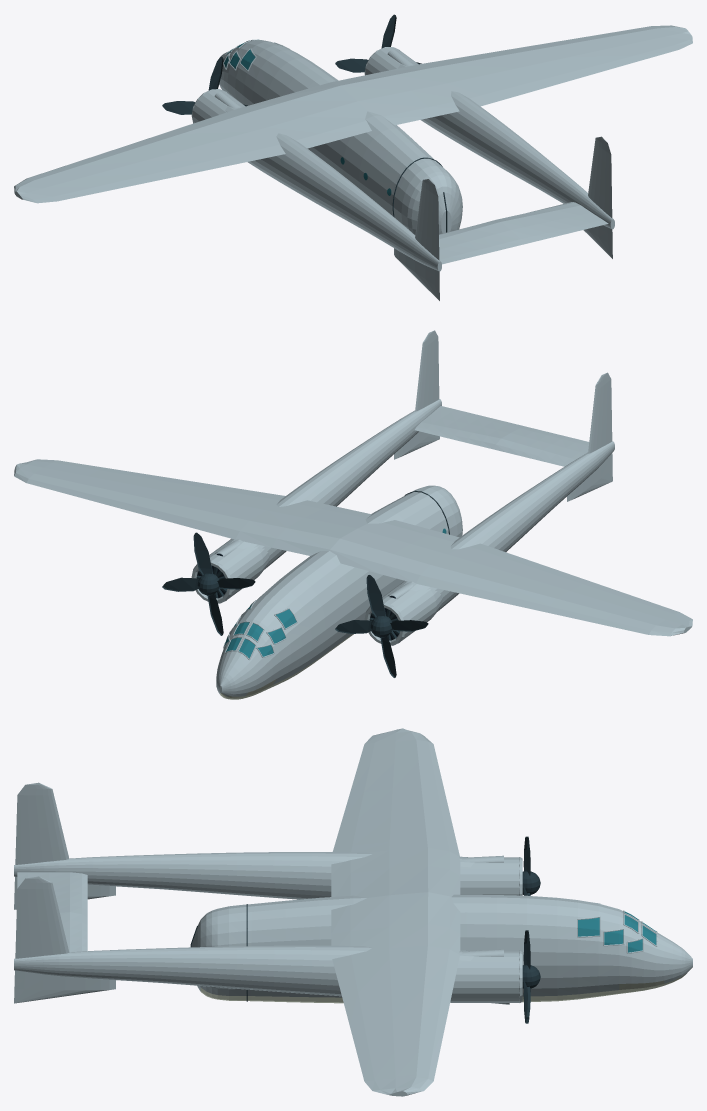
The model's file is archive-c119c.glb.
3 renders of one model, top to bottom at view 1: azimuth 30°, elevation 25°; view 2: azimuth 150°, elevation 25°; view 3: azimuth 270°, elevation 25°, orthographic. The views are drawn at different scales.
Parts seen in each view (by area): view 1: archive-c119c-transport_main_wing.001-geometry, archive-c119c-transport_main_wing.004-geometry, archive-c119c-fuselage.001-geometry, archive-c119c-tail_boom-geometry, archive-c119c-tail_boom.001-geometry, archive-c119c-connecting_tailplane.002-geometry, archive-c119c-twin_vertical_fin-geometry, archive-c119c-connecting_tailplane-geometry, archive-c119c-twin_vertical_fin.001-geometry, archive-c119c-radial_engine_0.001-geometry, archive-c119c-radial_engine_1.001-geometry, archive-c119c-transport_propeller_1.001-geometry (+2 smaller); view 2: archive-c119c-transport_main_wing.001-geometry, archive-c119c-fuselage.001-geometry, archive-c119c-transport_main_wing.004-geometry, archive-c119c-tail_boom-geometry, archive-c119c-tail_boom.001-geometry, archive-c119c-connecting_tailplane.002-geometry, archive-c119c-connecting_tailplane-geometry, archive-c119c-twin_vertical_fin-geometry, archive-c119c-radial_engine_1.001-geometry, archive-c119c-radial_engine_0.001-geometry, archive-c119c-transport_propeller_1.001-geometry, archive-c119c-transport_propeller_0.001-geometry (+2 smaller); view 3: archive-c119c-fuselage.001-geometry, archive-c119c-transport_main_wing.004-geometry, archive-c119c-transport_main_wing.001-geometry, archive-c119c-tail_boom.001-geometry, archive-c119c-tail_boom-geometry, archive-c119c-twin_vertical_fin.001-geometry, archive-c119c-twin_vertical_fin-geometry, archive-c119c-radial_engine_1.001-geometry, archive-c119c-radial_engine_0.001-geometry, archive-c119c-connecting_tailplane-geometry, archive-c119c-transport_glazing.001-geometry, archive-c119c-connecting_tailplane.002-geometry (+2 smaller).
Part boxes in pixels (<box>): archive-c119c-transport_main_wing.001-geometry: <box>14,82,371,203</box>; archive-c119c-transport_main_wing.004-geometry: <box>330,25,692,125</box>; archive-c119c-fuselage.001-geometry: <box>219,40,462,234</box>; archive-c119c-tail_boom-geometry: <box>225,104,441,271</box>; archive-c119c-tail_boom.001-geometry: <box>398,61,614,229</box>; archive-c119c-connecting_tailplane.002-geometry: <box>496,202,608,243</box>; archive-c119c-twin_vertical_fin-geometry: <box>394,179,439,300</box>; archive-c119c-connecting_tailplane-geometry: <box>439,220,524,264</box>; archive-c119c-twin_vertical_fin.001-geometry: <box>583,136,612,258</box>; archive-c119c-radial_engine_0.001-geometry: <box>191,89,245,123</box>; archive-c119c-radial_engine_1.001-geometry: <box>364,47,418,75</box>; archive-c119c-transport_propeller_1.001-geometry: <box>335,14,421,72</box>; archive-c119c-transport_main_wing.001-geometry: <box>329,520,692,636</box>; archive-c119c-fuselage.001-geometry: <box>216,485,462,699</box>; archive-c119c-transport_main_wing.004-geometry: <box>14,459,371,555</box>; archive-c119c-tail_boom-geometry: <box>398,441,614,611</box>; archive-c119c-tail_boom.001-geometry: <box>225,399,441,569</box>; archive-c119c-connecting_tailplane.002-geometry: <box>414,406,524,449</box>; archive-c119c-connecting_tailplane-geometry: <box>493,426,589,466</box>; archive-c119c-twin_vertical_fin-geometry: <box>567,372,612,501</box>; archive-c119c-radial_engine_1.001-geometry: <box>191,540,269,603</box>; archive-c119c-radial_engine_0.001-geometry: <box>364,582,442,645</box>; archive-c119c-transport_propeller_1.001-geometry: <box>162,532,255,635</box>; archive-c119c-transport_propeller_0.001-geometry: <box>335,575,428,677</box>; archive-c119c-fuselage.001-geometry: <box>191,894,692,1003</box>; archive-c119c-transport_main_wing.004-geometry: <box>331,892,460,1096</box>; archive-c119c-transport_main_wing.001-geometry: <box>331,728,460,897</box>; archive-c119c-tail_boom.001-geometry: <box>14,945,476,996</box>; archive-c119c-tail_boom-geometry: <box>14,852,476,899</box>; archive-c119c-twin_vertical_fin.001-geometry: <box>14,876,115,1003</box>; archive-c119c-twin_vertical_fin-geometry: <box>14,782,115,909</box>; archive-c119c-radial_engine_1.001-geometry: <box>450,949,522,1004</box>; archive-c119c-radial_engine_0.001-geometry: <box>460,855,522,895</box>; archive-c119c-connecting_tailplane-geometry: <box>17,872,87,917</box>; archive-c119c-transport_glazing.001-geometry: <box>577,902,657,953</box>; archive-c119c-connecting_tailplane.002-geometry: <box>60,912,87,952</box>.
Bounding box in the file's own units: 7.58 × 1.67 × 6.
